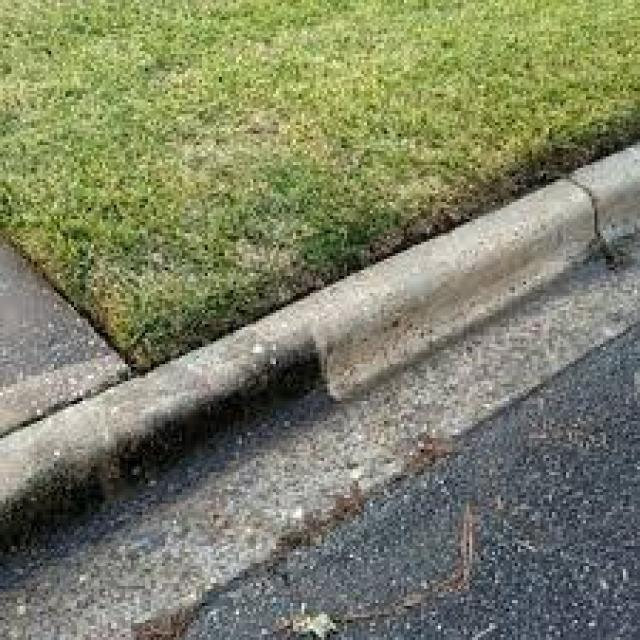curb: (4, 256, 388, 580), (351, 142, 630, 461)
